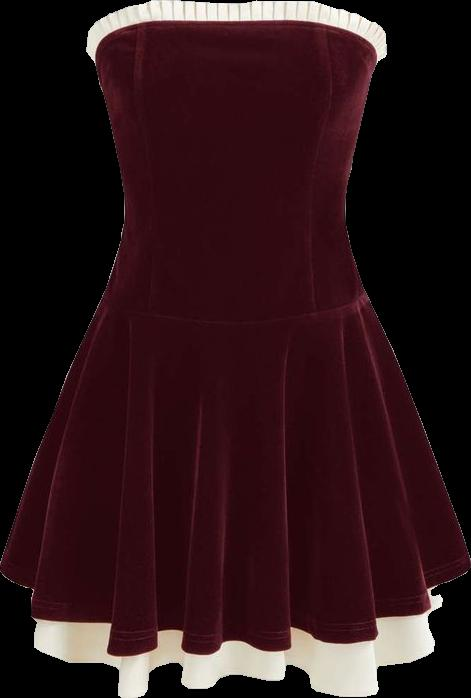Bodice: (86, 0, 386, 323)
Hemline: (0, 564, 470, 658), (31, 641, 439, 697)
Neckline: (82, 0, 392, 56), (90, 16, 382, 60)
Skirt: (0, 302, 470, 697)
Waistline: (97, 297, 372, 328)
